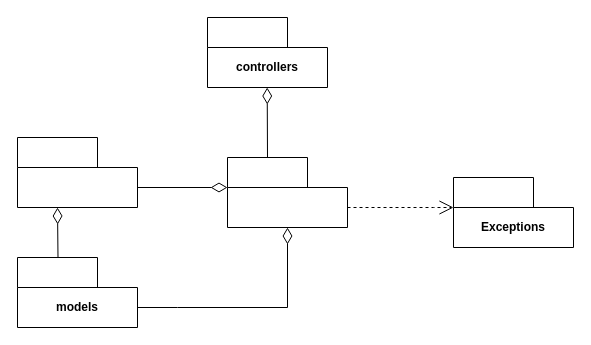
Some shapes in this 591 by 345 pixel diagram are drawn without their labels. Here are the shapes that lost their labels. From the top down, the box of each, then its label:
(16, 136, 138, 208): repositories
(226, 156, 348, 228): services
